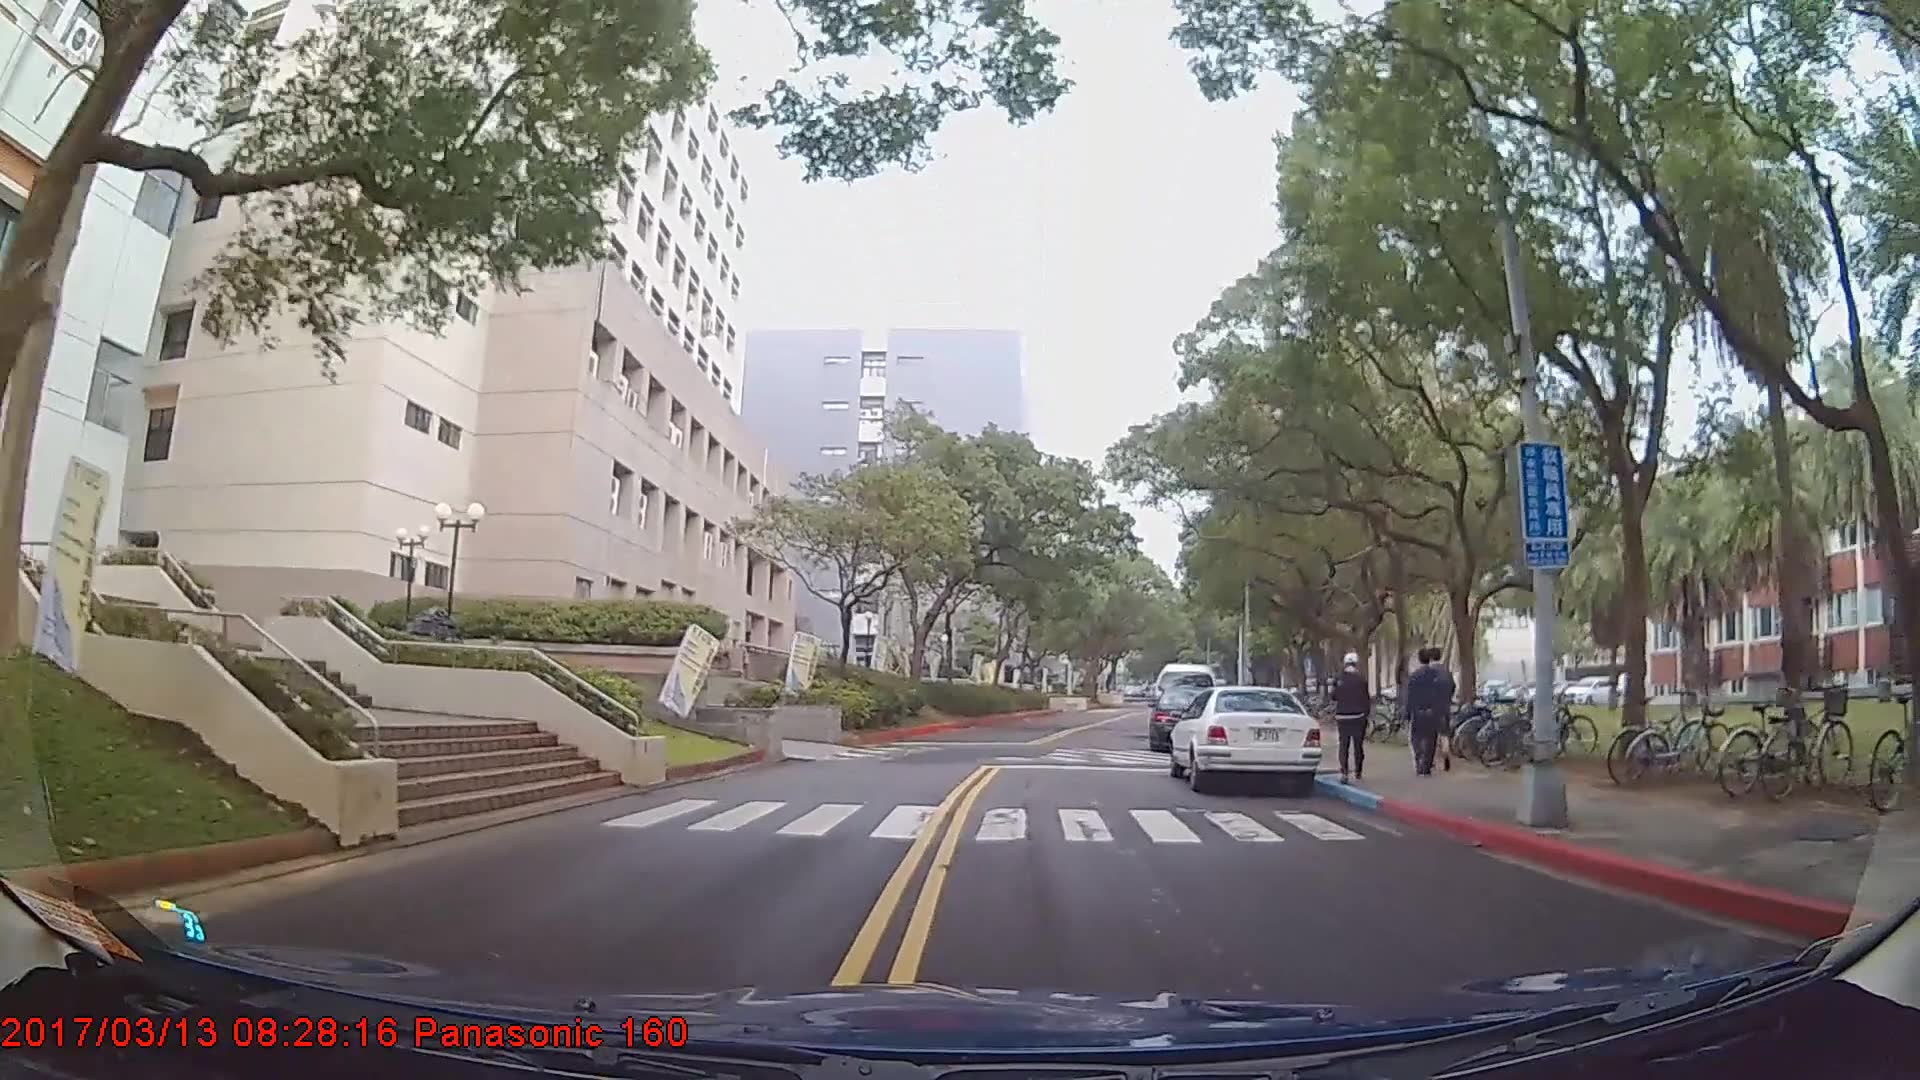pedestrian: (1405, 643, 1455, 782), (1331, 648, 1374, 783)
vehicle: (1167, 684, 1322, 794)
